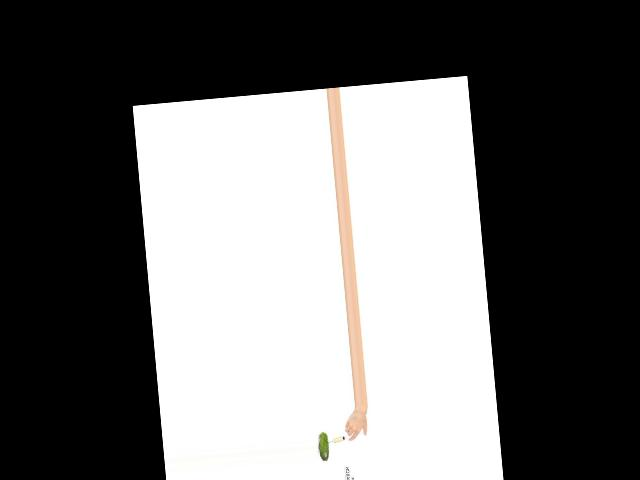cucumber: (317, 431, 329, 461)
